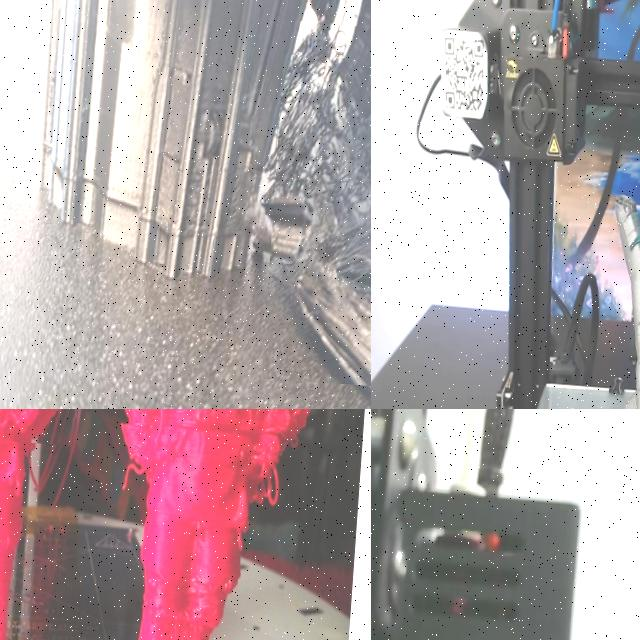spaghetti: (261, 0, 371, 394), (115, 409, 302, 507), (138, 586, 212, 640)
